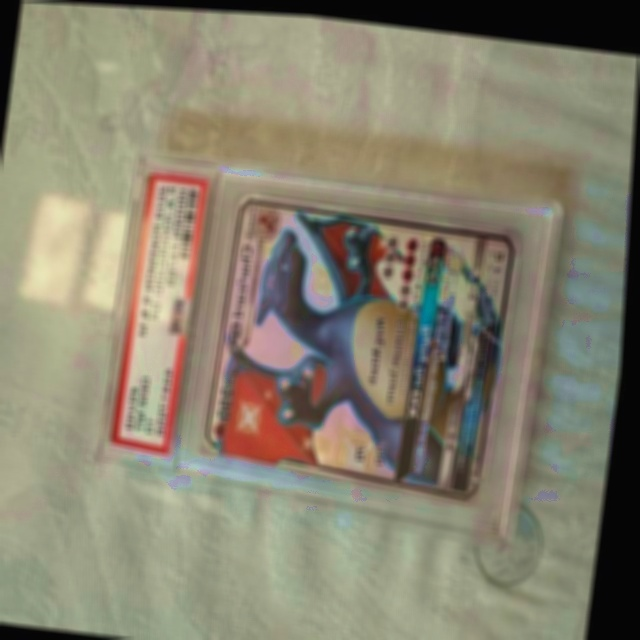card: (208, 190, 522, 500)
